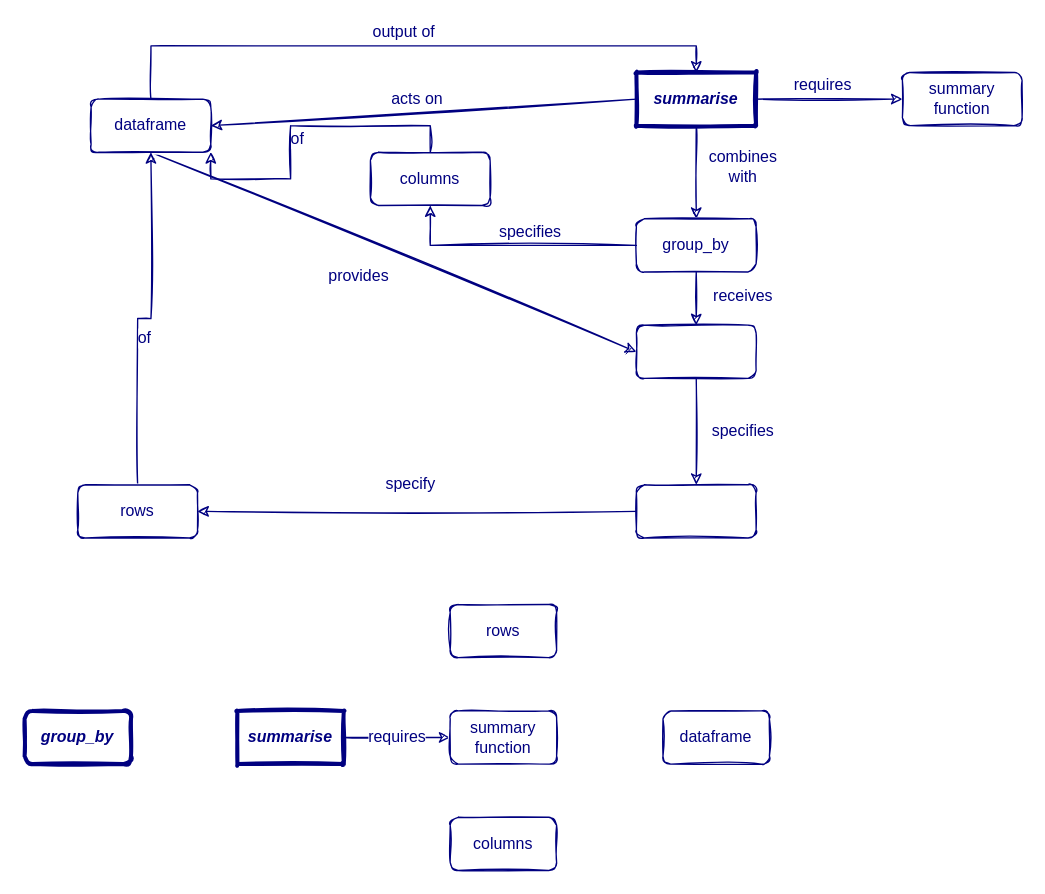
Image size: 1045x894. Some labels were removed from this diagram. The shapes that lost their labels are listed below. From the top down, each one's centre as x and y in pixels, then its label:
point (695, 351): grouping variable
point (695, 510): group keys
